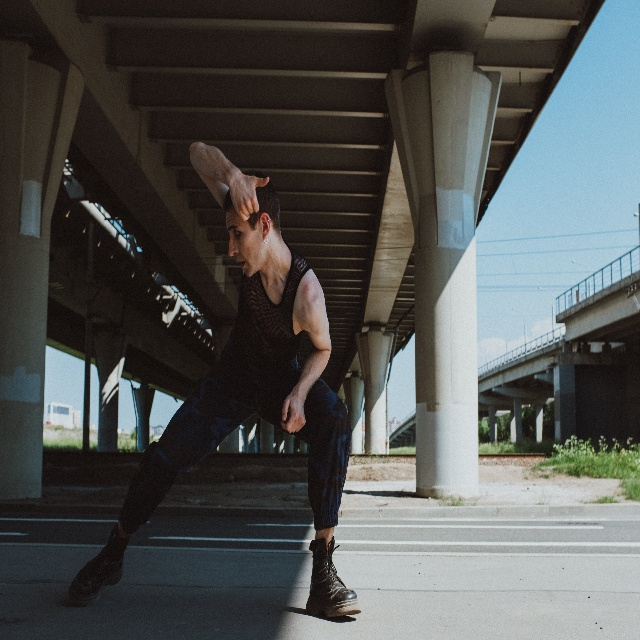Sin_guantes: (230, 168, 269, 219), (279, 393, 306, 429)
